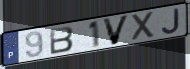1: (88, 19, 101, 49)
9: (24, 30, 45, 59)
B: (49, 25, 75, 56)
J: (160, 7, 181, 36)
V: (101, 13, 131, 46)
X: (130, 10, 156, 43)
